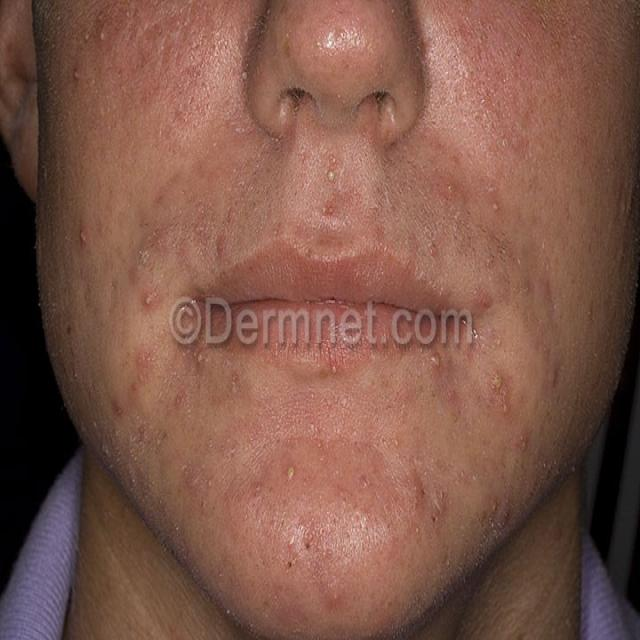Acne: (488, 367, 518, 425), (80, 6, 113, 54), (136, 280, 162, 319), (484, 177, 506, 223), (132, 346, 156, 388), (279, 454, 305, 490), (73, 215, 94, 256), (321, 155, 344, 192), (422, 345, 448, 376)
